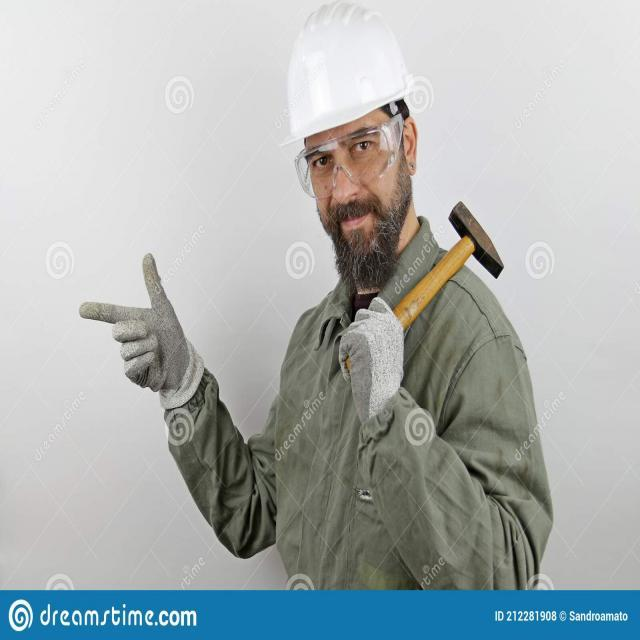hammer: (390, 196, 507, 331)
